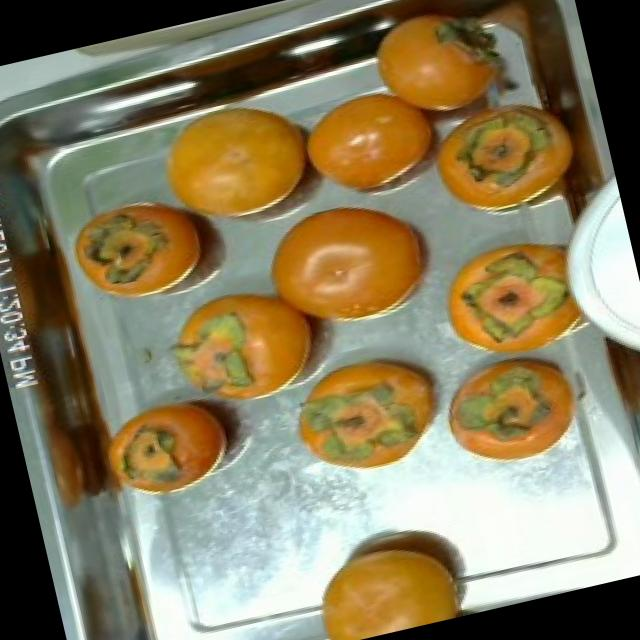Fruit: (237, 175, 472, 355), (405, 74, 606, 242), (271, 333, 469, 497), (413, 212, 612, 372), (134, 85, 332, 238), (280, 66, 468, 225), (422, 337, 604, 488), (293, 506, 488, 640), (350, 0, 533, 142), (52, 175, 228, 322), (93, 370, 268, 512)
